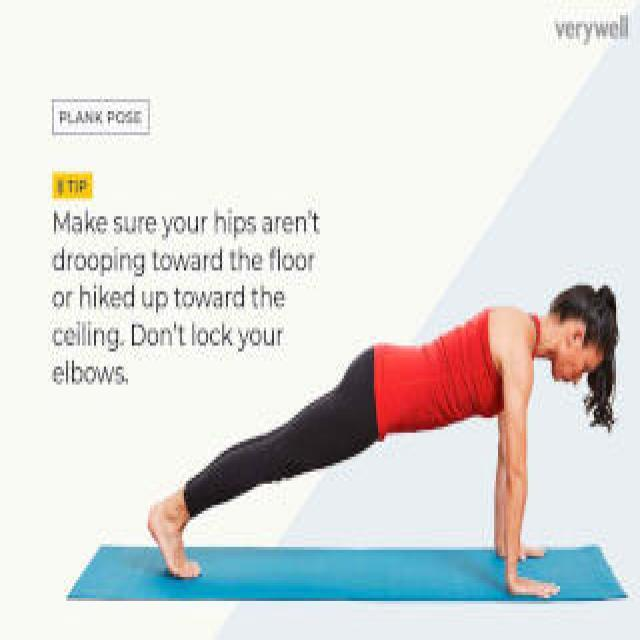yoga-pose plank: (152, 308, 626, 606)
